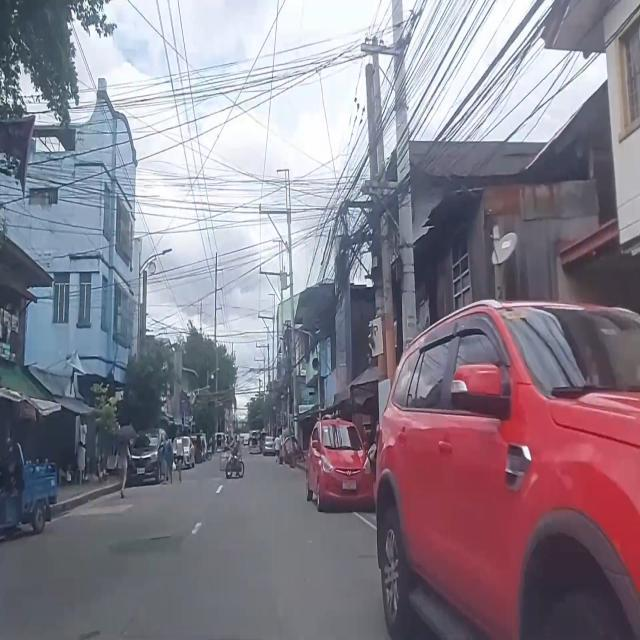car: (374, 304, 639, 640), (307, 417, 372, 512), (126, 430, 168, 486), (172, 436, 195, 471)
jeepney: (248, 430, 261, 454), (215, 432, 226, 453)
tricycle: (0, 426, 59, 554), (220, 440, 244, 478)
